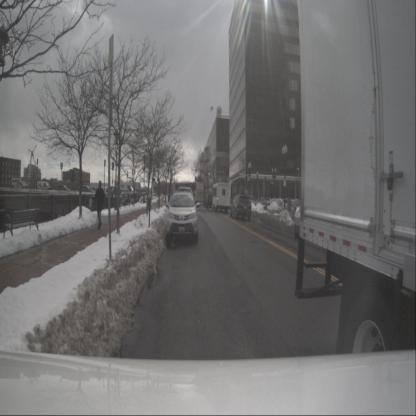human-pedestrian-adult: (92, 180, 104, 230)
vehicle-bus-rigid: (153, 182, 204, 208), (212, 182, 231, 213)
vehicle-car: (165, 192, 200, 247), (230, 194, 252, 221), (106, 186, 125, 200), (244, 195, 260, 210), (36, 180, 52, 194), (78, 184, 94, 196), (203, 194, 214, 208), (56, 185, 71, 194), (262, 198, 272, 205), (258, 198, 266, 206)
vehicle-truck: (114, 180, 138, 200), (11, 178, 29, 193)
